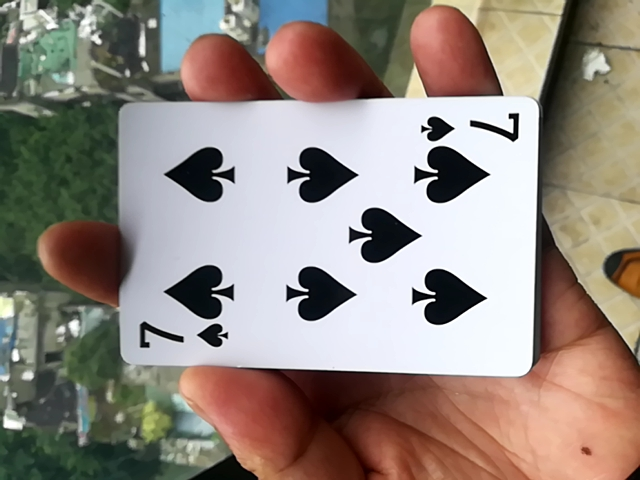ht 7: (109, 96, 546, 379)
